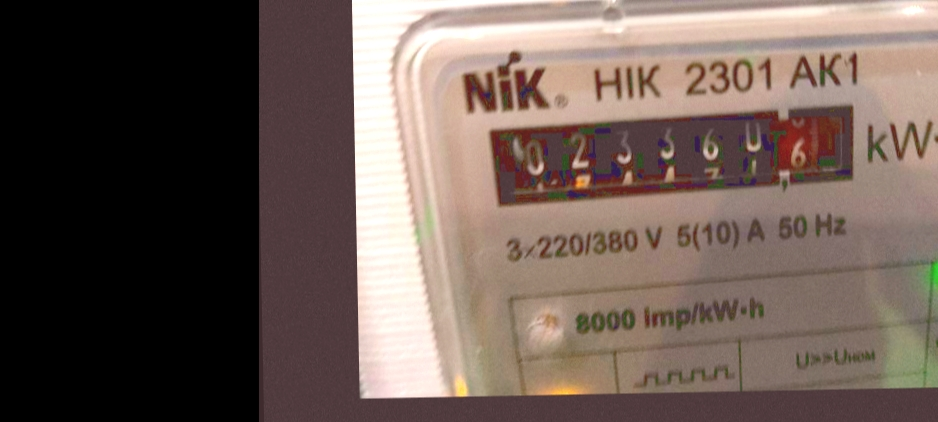0: (521, 136, 547, 178), (741, 117, 765, 154)
2: (565, 129, 592, 169)
3: (654, 123, 677, 162), (612, 126, 634, 166)
6: (696, 122, 723, 164), (788, 135, 810, 171)
screen: (466, 91, 870, 216)
